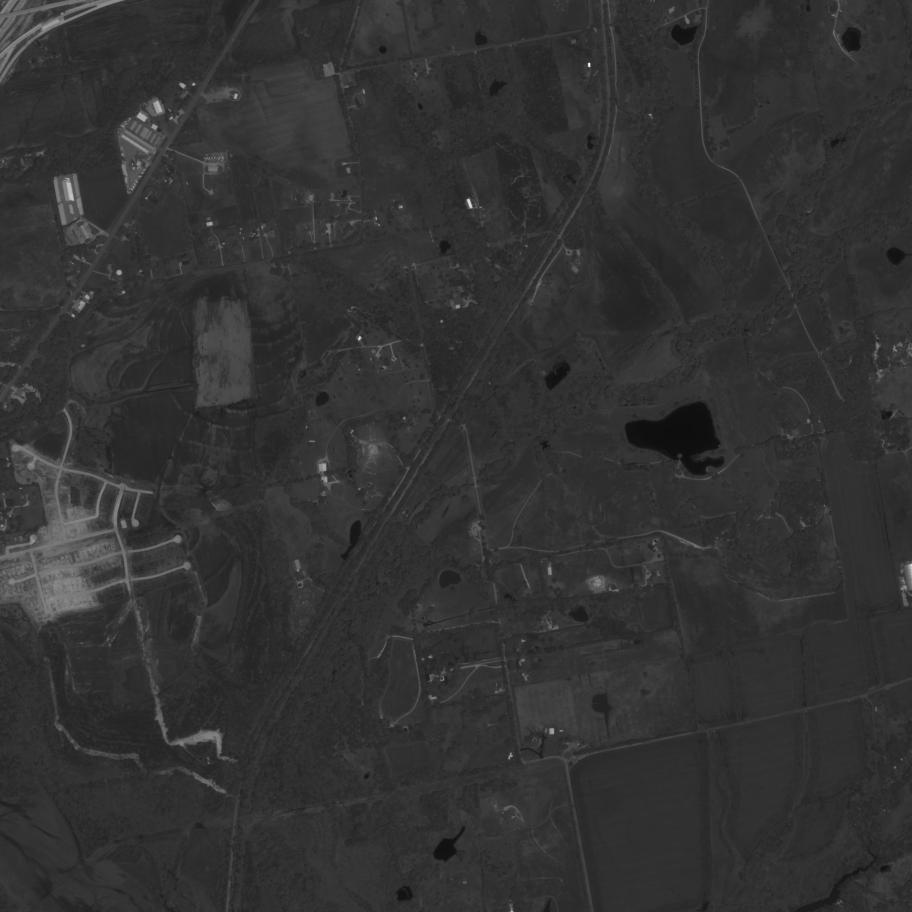storage-tank: (116, 270, 122, 276)
